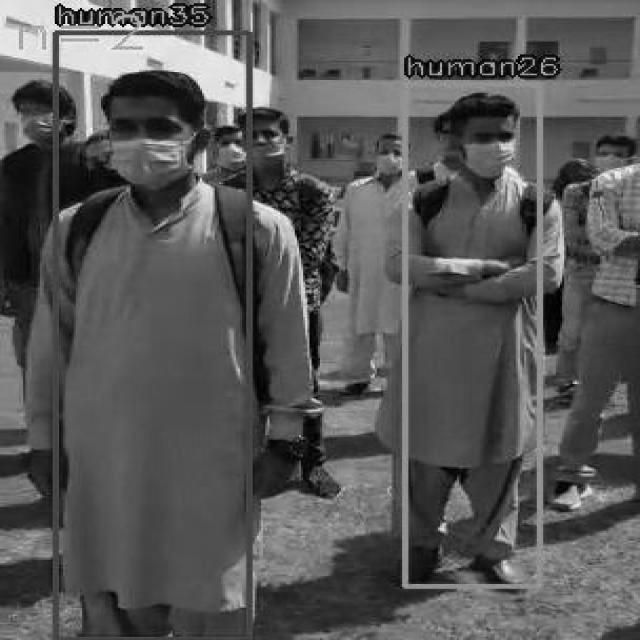person: (52, 31, 248, 638), (402, 82, 539, 586)
